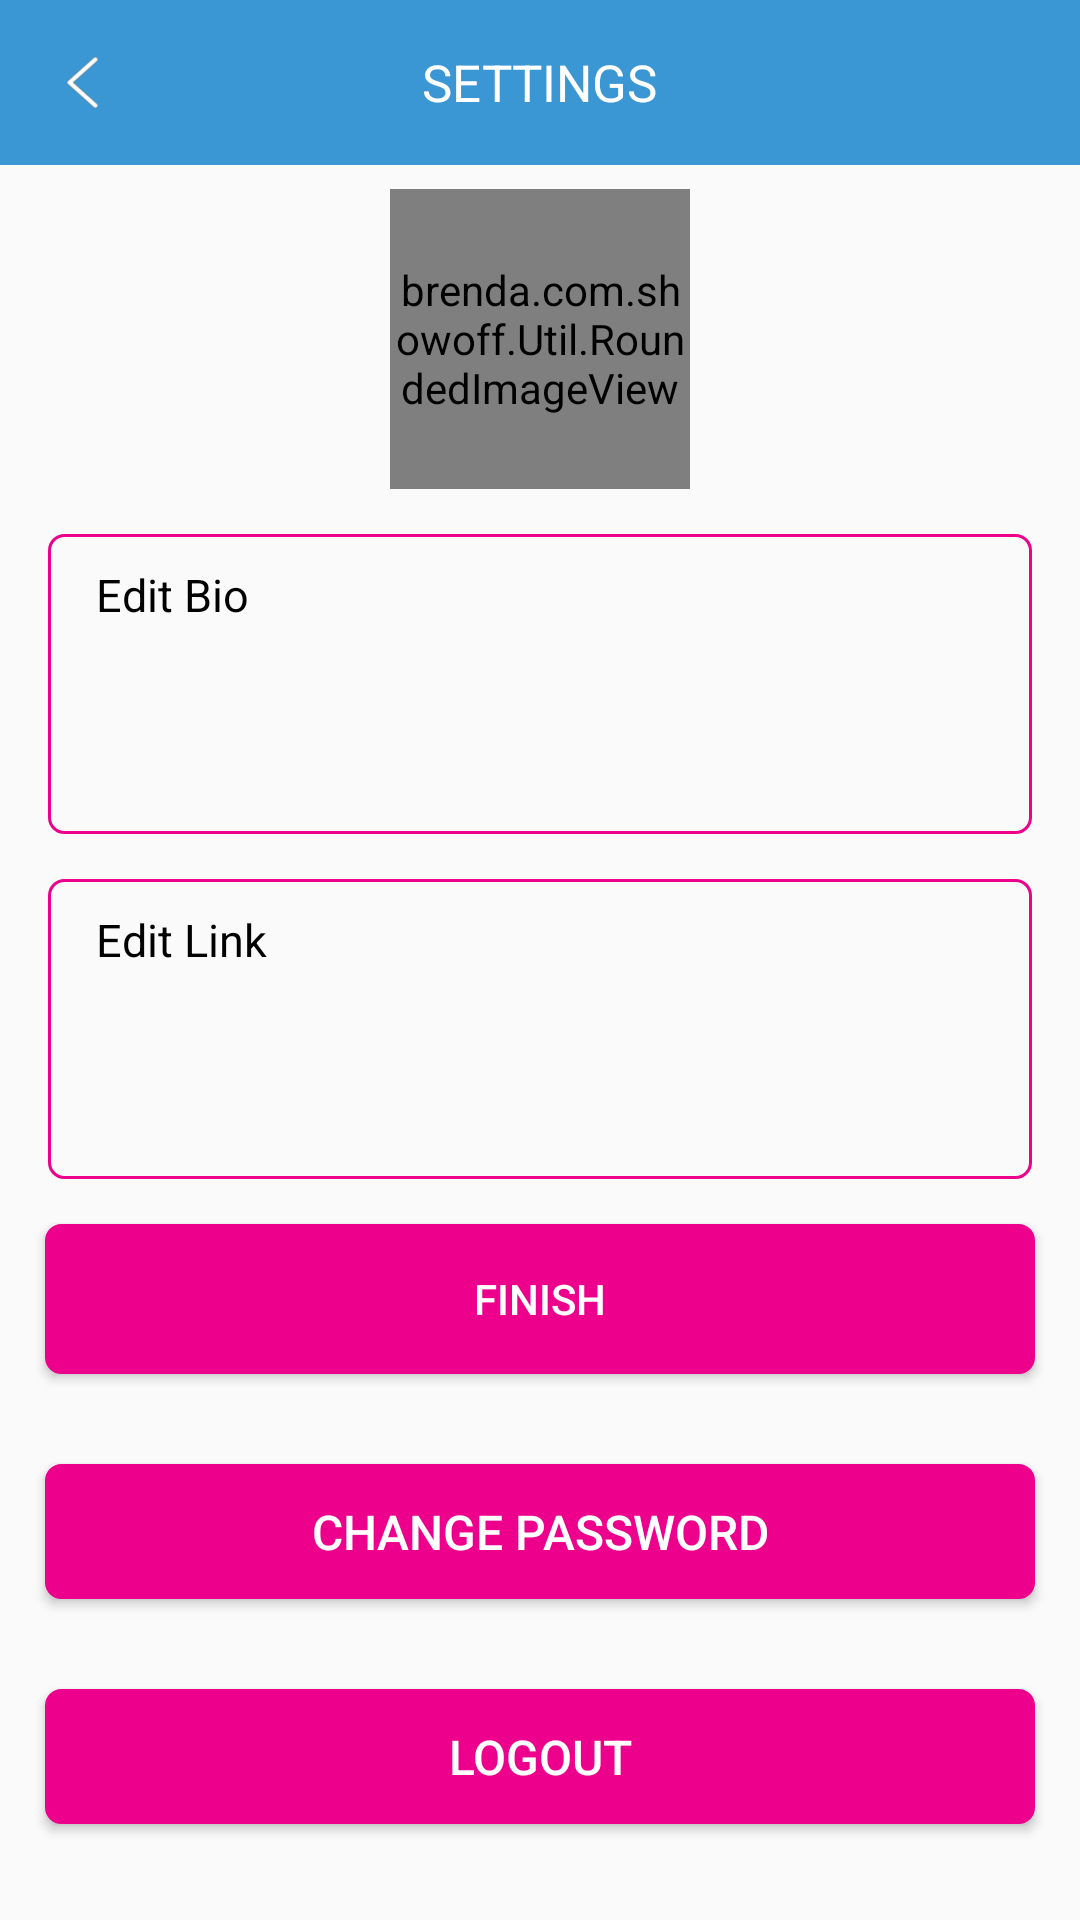

Icon bounding boxes for this 1080×1920 phone screenshot, format (x1, y1, x2, y2):
arrow: (67, 57, 98, 108)
